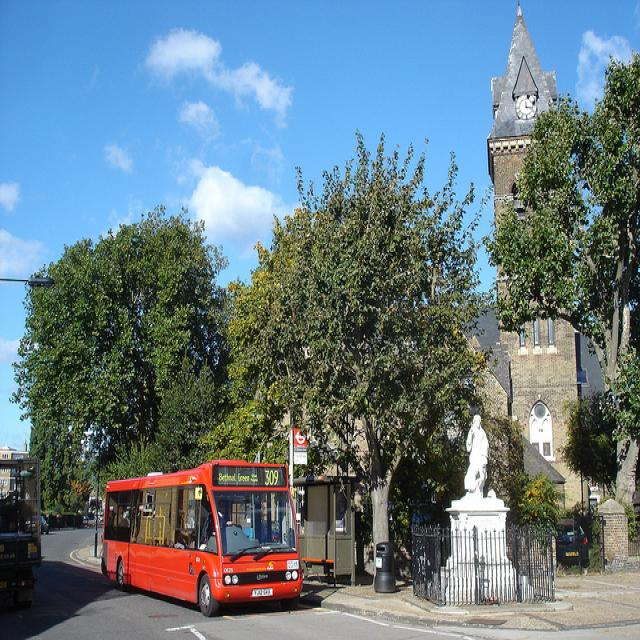Vehicle: (103, 459, 303, 617), (0, 448, 43, 610), (556, 518, 590, 567), (25, 516, 49, 534)
